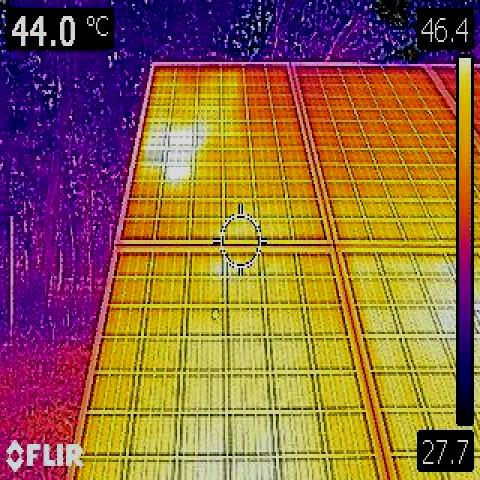fault: (167, 149, 191, 163), (143, 135, 165, 150), (170, 130, 193, 144), (169, 168, 192, 180), (142, 152, 162, 164)
